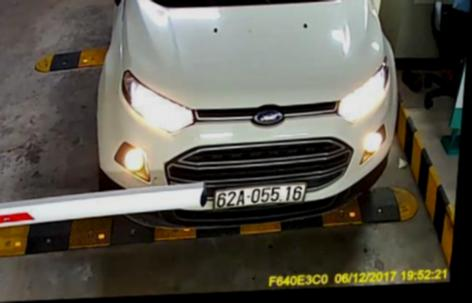License_Plate: (209, 180, 312, 214)
